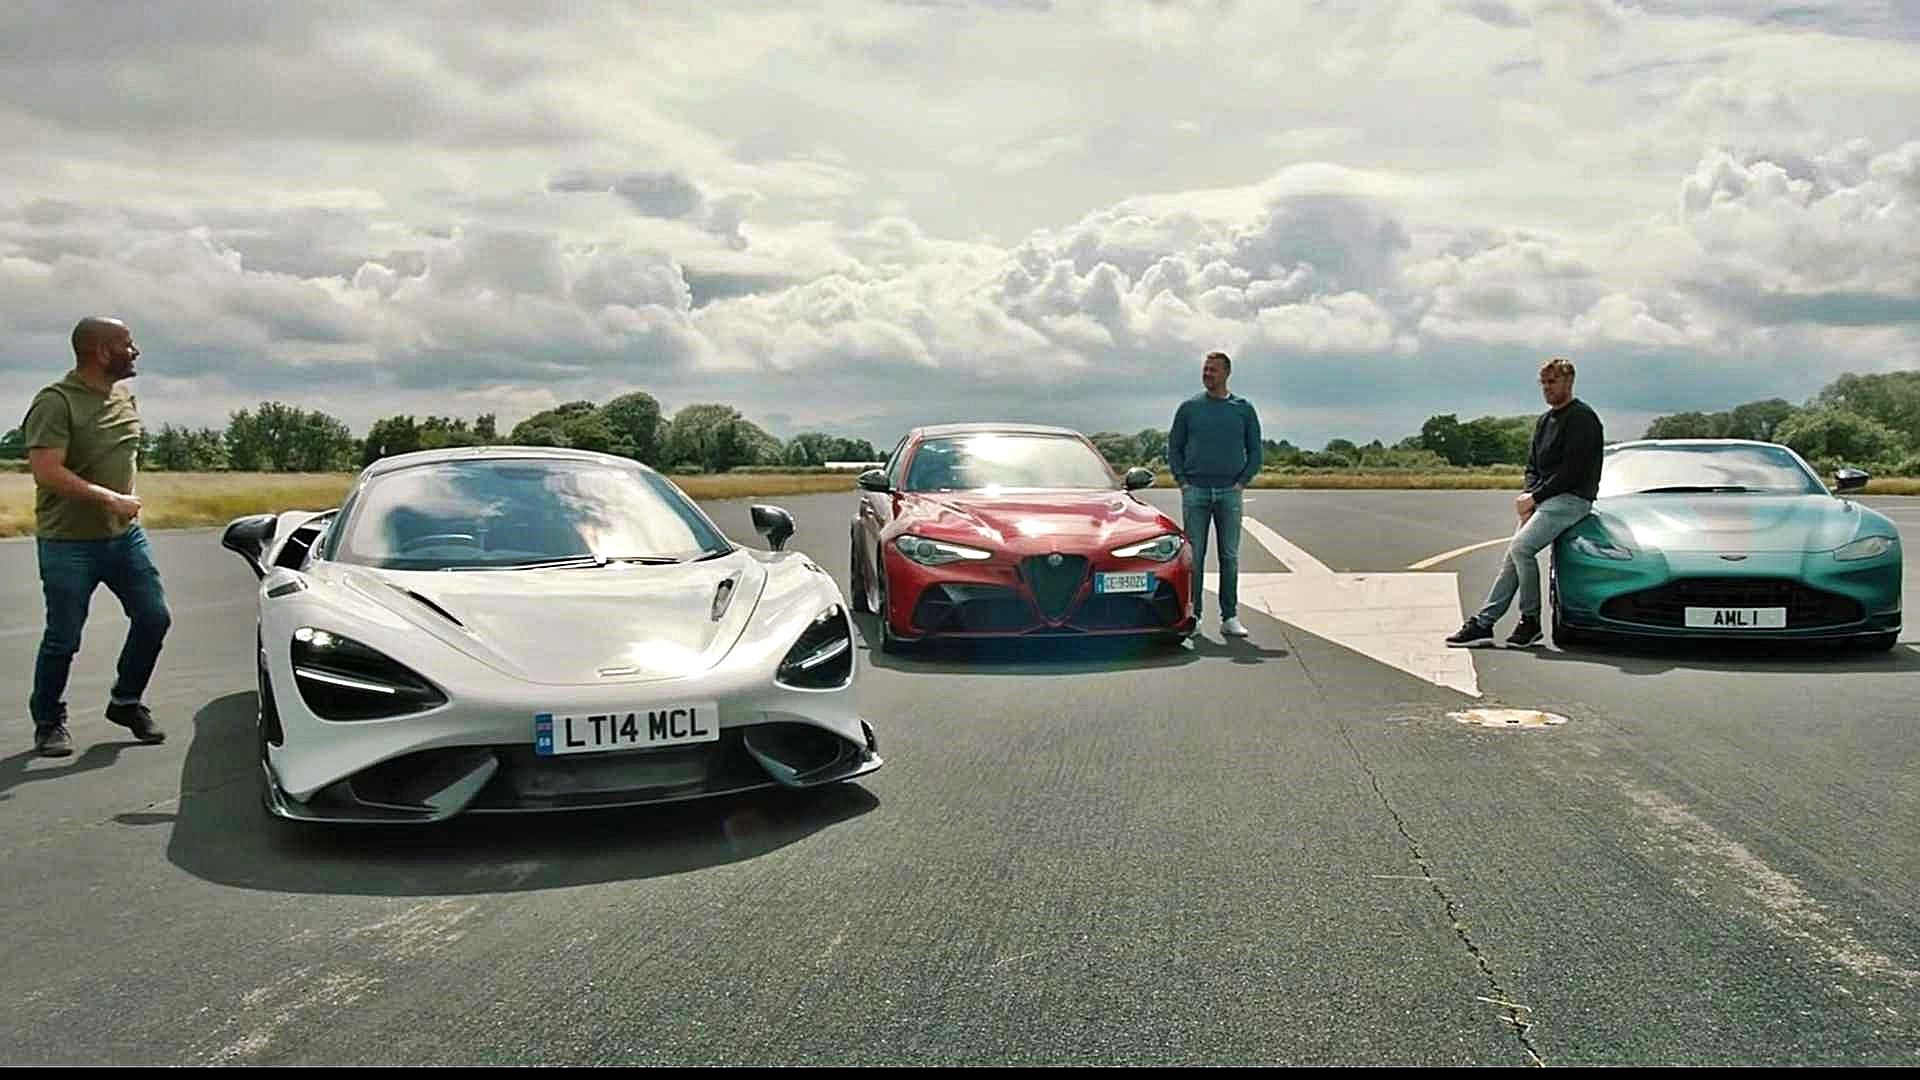tablica: (530, 709, 721, 756), (1683, 609, 1783, 626), (1096, 574, 1150, 588)
